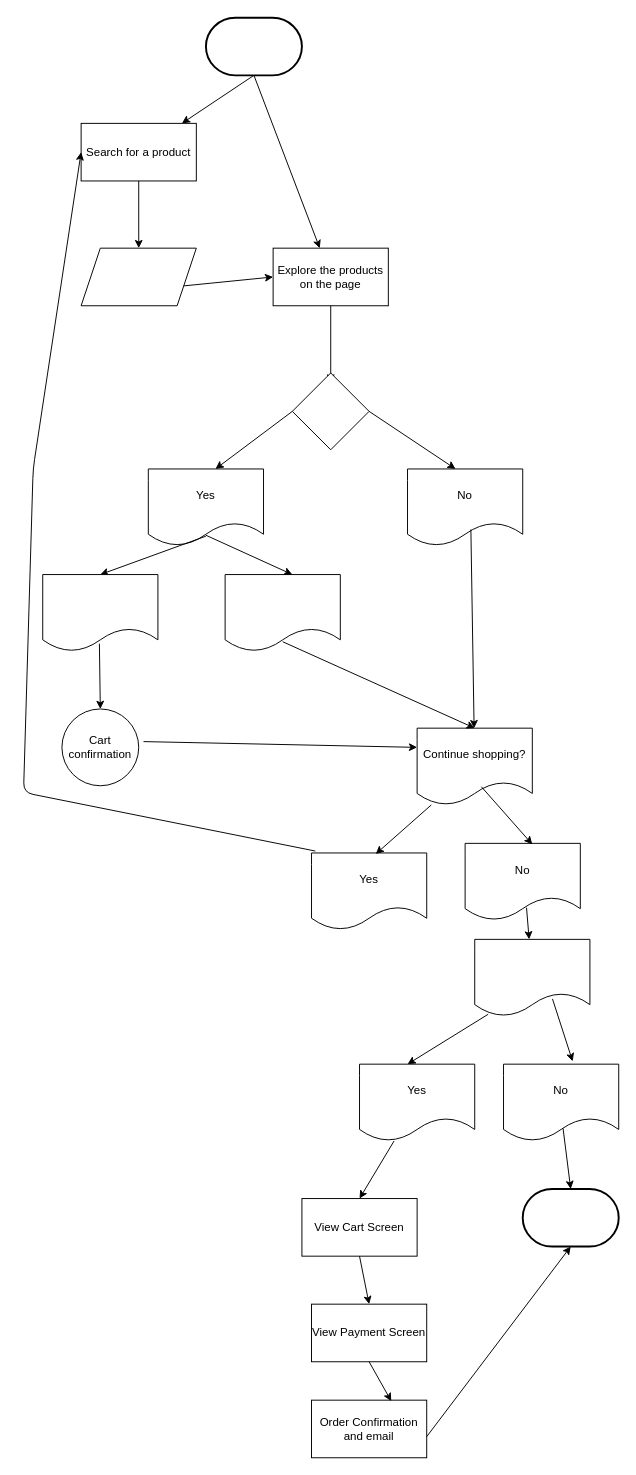
Image size: 636x1475. Some labels were removed from this diagram. Each missing label, with the centre of its shape:
"Add to cart" goes at (x=100, y=612).
"Checkout?" goes at (x=532, y=977).
"Don't add to cart" goes at (x=282, y=612).
"Enter the Website" goes at (x=253, y=46).
"Input to the website" goes at (x=138, y=276).
"Leave the Website" goes at (x=570, y=1217).
"View a specific product" goes at (x=330, y=411).
